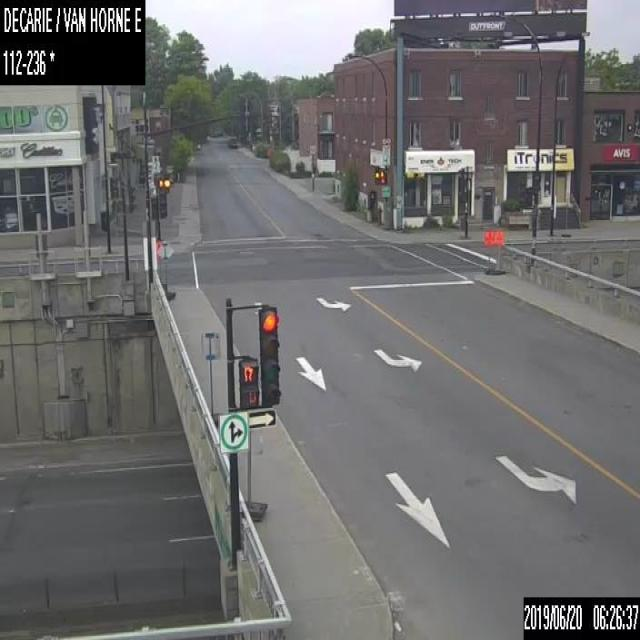construction: (242, 427, 268, 518), (203, 329, 221, 428), (154, 235, 173, 300), (494, 229, 505, 273), (484, 228, 494, 274)
vehicle: (228, 136, 237, 148)
